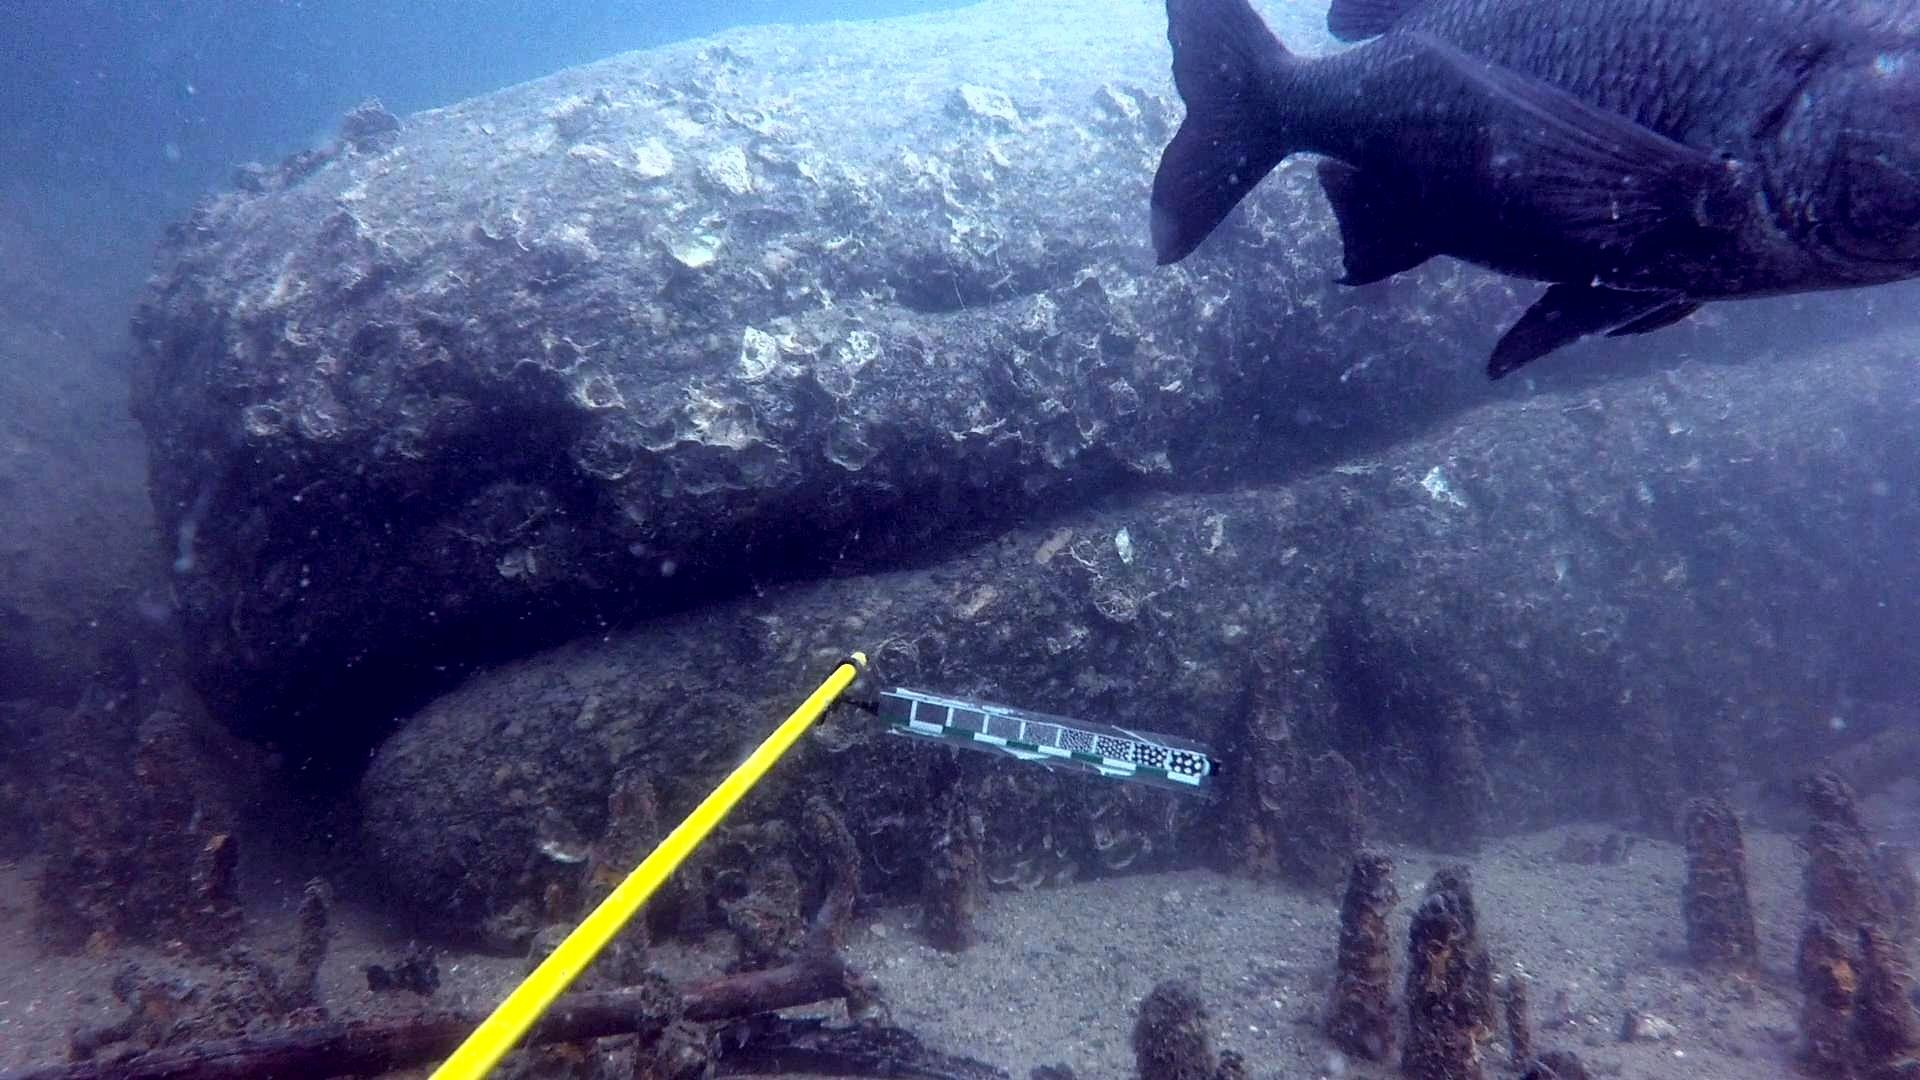acanthopagrus palmaris: (1128, 0, 1920, 392)
